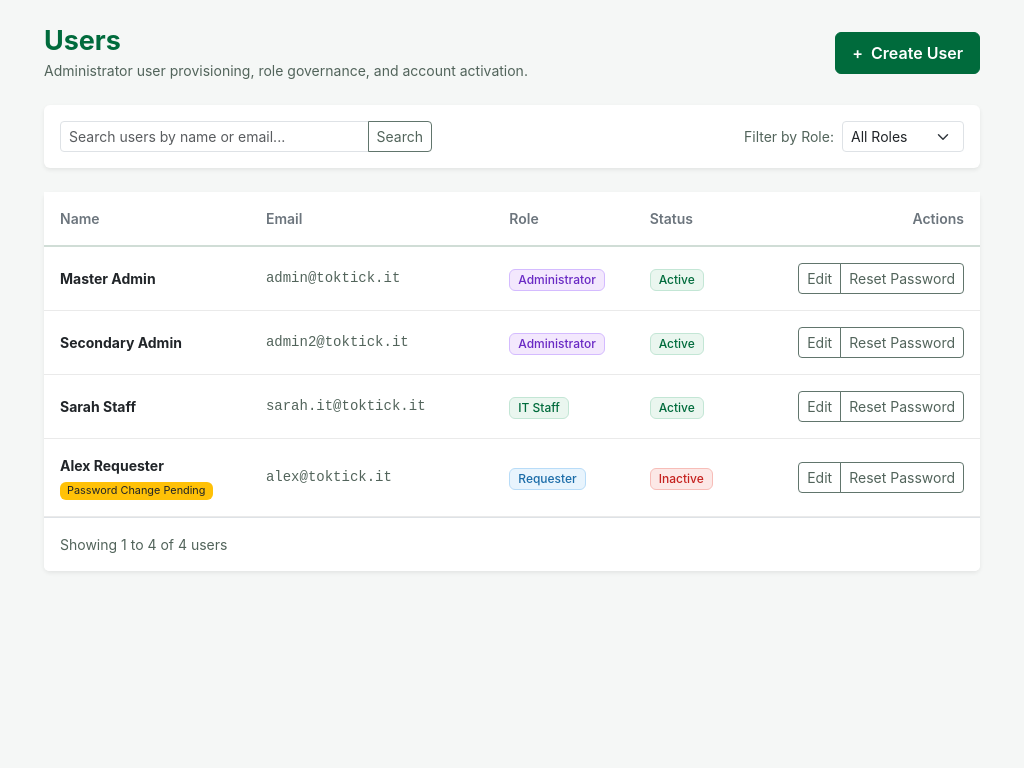
Test: UI-07 & UI-08: Administrator User Management & Safety Guards › displays error when create user fails with 409 duplicate email
Click the button "+ Create User" at (908, 53), box [835,32,980,74]
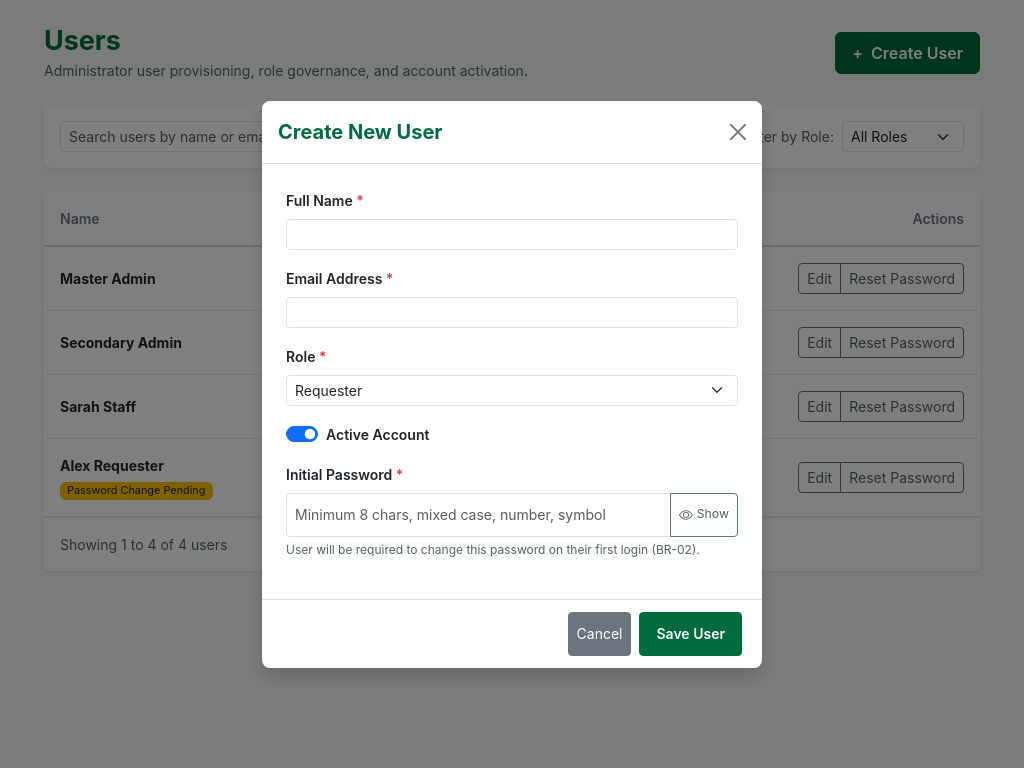
Type "Duplicate" into the field labelled "Full Name *" at (512, 234), box [286,218,738,250]
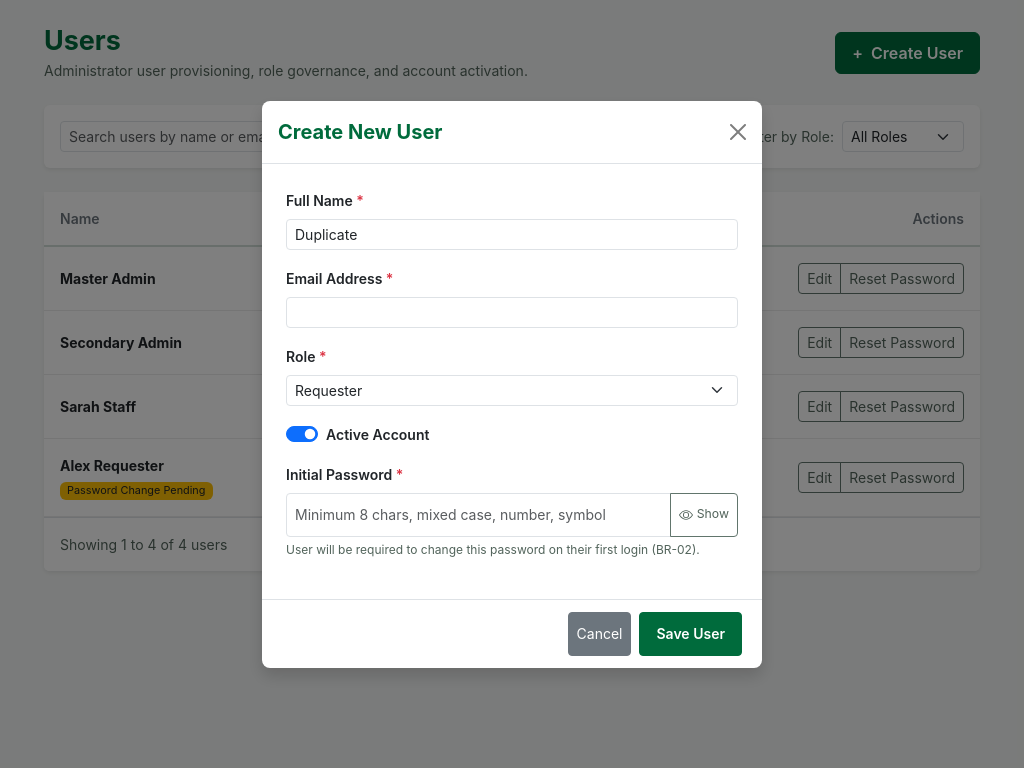
Type "admin@toktick.it" into the field labelled "Email Address *" at (512, 312), box [286,296,738,328]
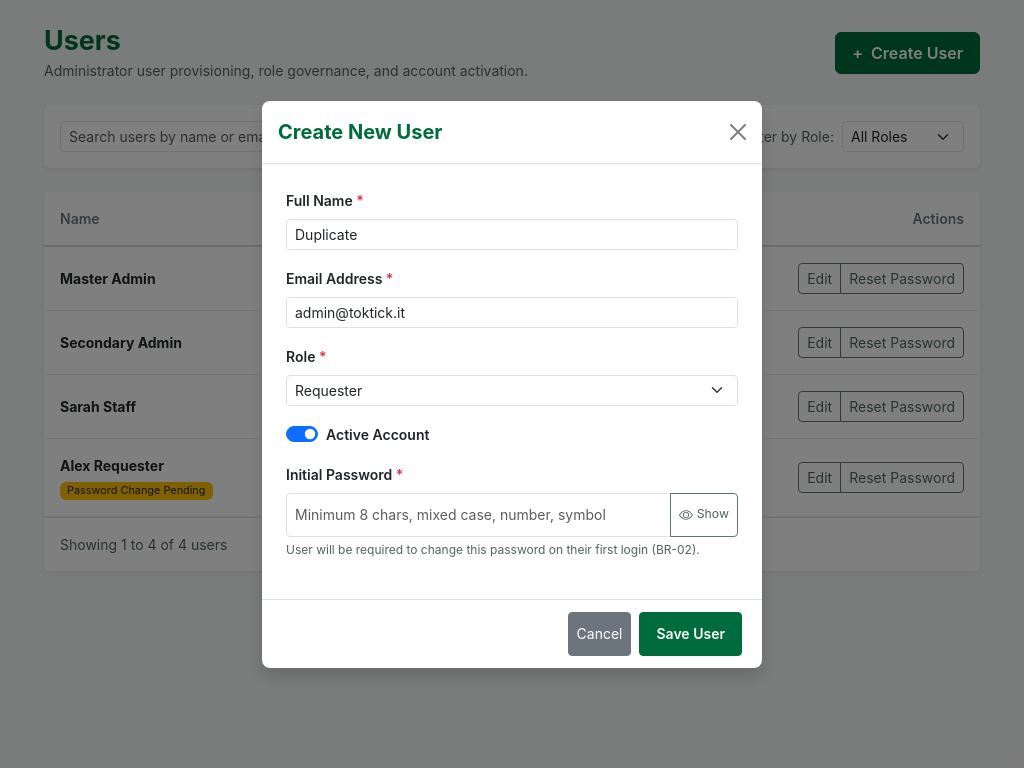
Type "Welcome@123" into the password field labelled "Initial Password *" at (478, 514), box [286,492,671,536]
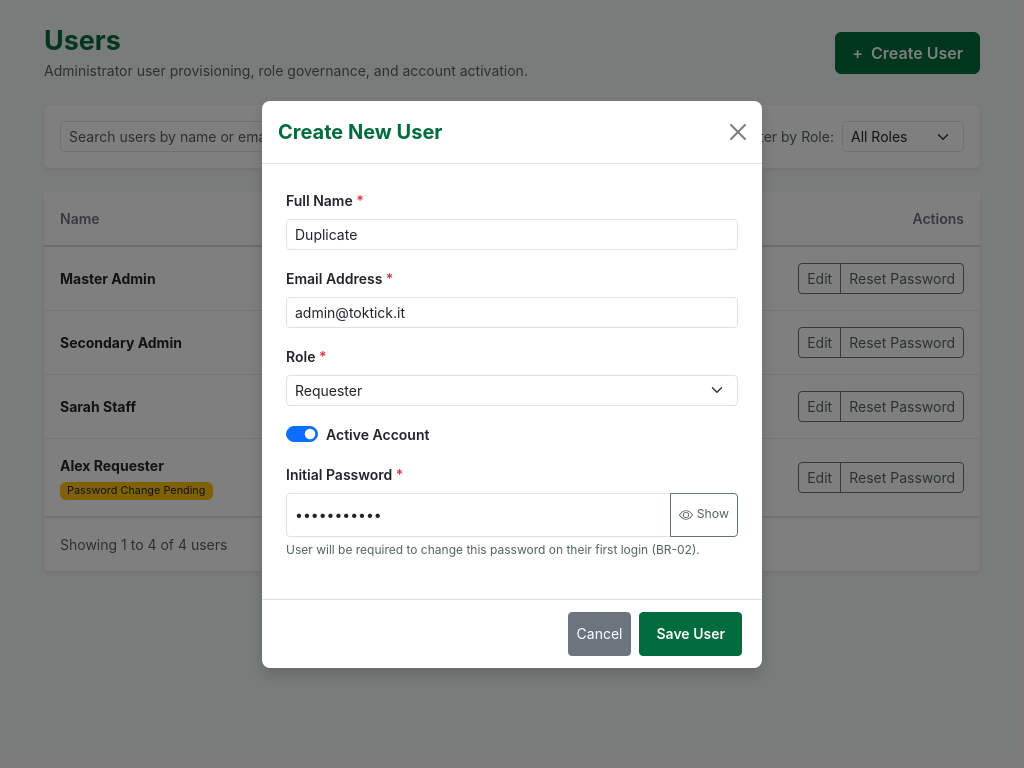
Click the button "Save User" at (691, 634), box [640,612,742,656]
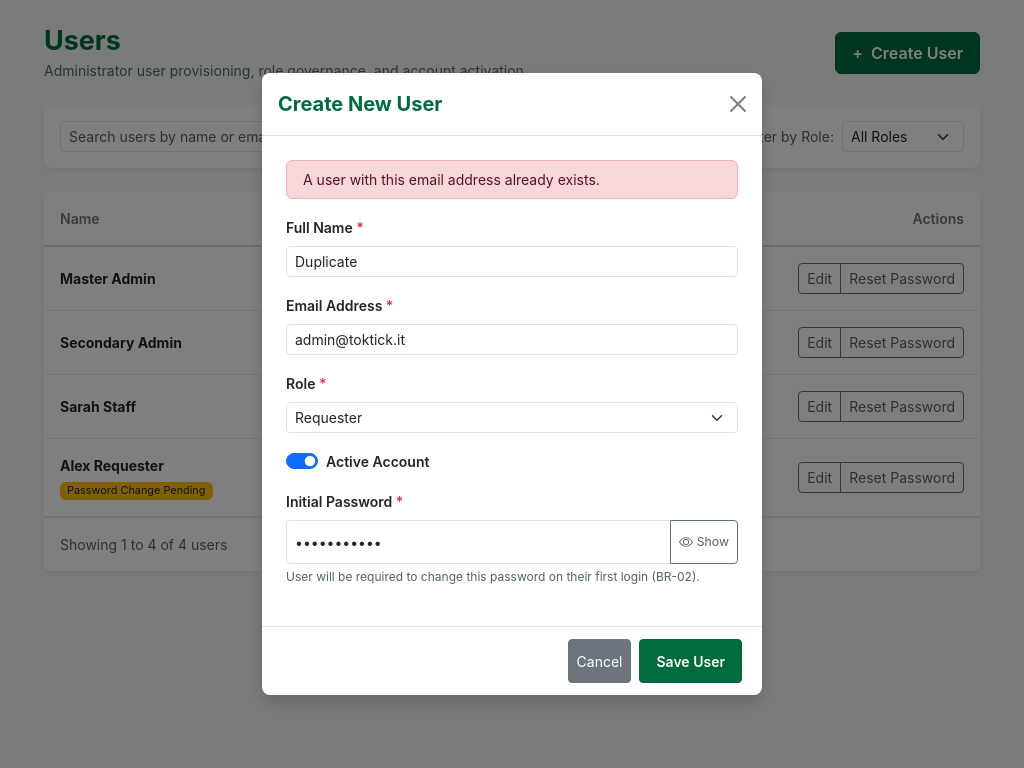
Result: the text "A user with this email address already exists." is shown at [286,160,738,199]
